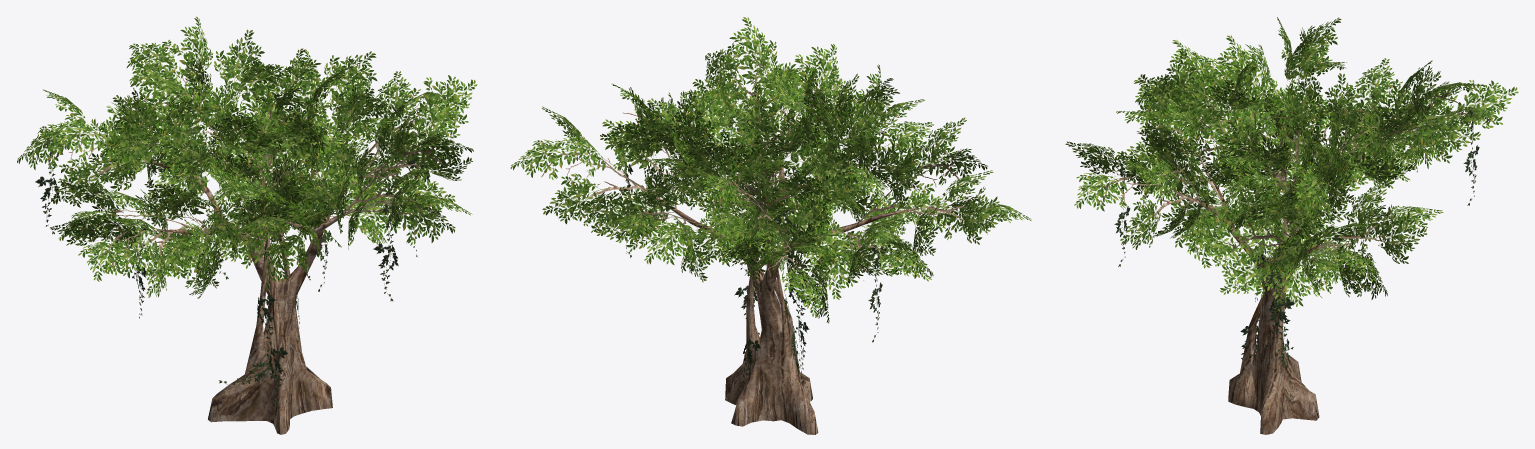
The model's file is Banyan.fbx.
3 renders of one model, left to right at view 1: azimuth 30°, elevation 25°; view 2: azimuth 150°, elevation 25°; view 3: azimuth 270°, elevation 25°, orthographic.
Visible parts, largest first — view 1: Leaves, Trunk; view 2: Leaves, Trunk; view 3: Leaves, Trunk.
Part boxes in pixels (x1,y1,x2,y2): Leaves: [17, 16, 477, 406]; Trunk: [143, 140, 378, 434]; Leaves: [510, 17, 1031, 391]; Trunk: [623, 131, 918, 434]; Leaves: [1065, 17, 1518, 401]; Trunk: [1172, 131, 1407, 434].
Bounding box in the file's own units: 12.98 × 9.55 × 11.3.
Materials: 2 (2 with a texture image).
